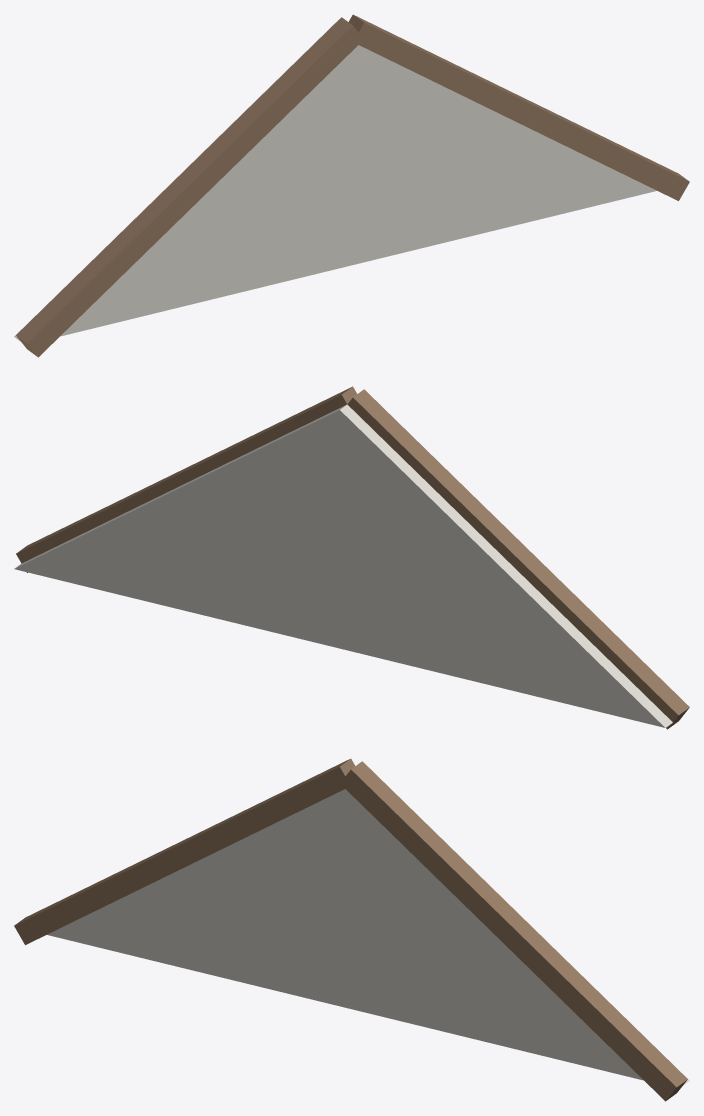
Rendered from feudal-japan-castle-town-gable-infill-ab1afbfe__26349.glb.
The picture shows the model from 3 angles, top to bottom: view 1: azimuth 30°, elevation 25°; view 2: azimuth 150°, elevation 25°; view 3: azimuth 330°, elevation 25°; orthographic projection.
Visible parts, largest first — view 1: gable-infill; view 2: gable-infill; view 3: gable-infill.
Boxes of the visible parts, <box> form: gable-infill: <box>14,14,689,357</box>; gable-infill: <box>14,386,689,729</box>; gable-infill: <box>14,758,689,1101</box>.
Size of the model in its own units: 4.07 by 1.5 by 0.2002.
